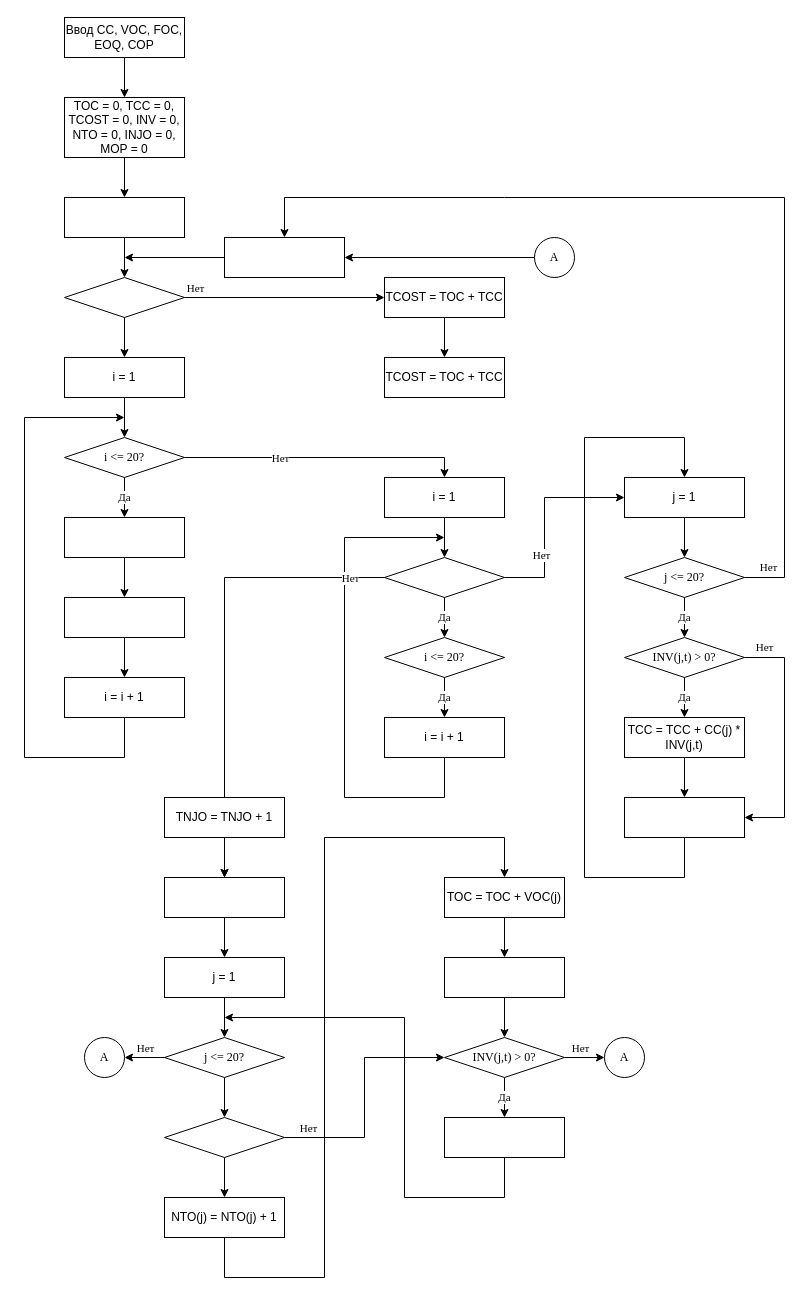
Image size: 810x1303. Some labels were removed from this diagram. The centre of each missing label's shape, as x and y in pixels:
"INV(i,t) = INV(i,t-1) - - D(i,t)" goes at [124,617].
"INV(i,t)>MOP(i)?" goes at [444,577].
"INV(j,t) = INV(j,t) + + EOQ(j)" goes at [504,977].
"INV(j,t)<=COP(j)?" goes at [224,1137].
"j = j + 1" goes at [684,817].
"t <= 90?" goes at [124,297].
"t = 1" goes at [124,217].
"t = t + 1" goes at [284,257].
"TCC = TCC + CC(j) * * INV(j,t)" goes at [504,1137].
"TOC = TOC + FOC" goes at [224,897].
"Генерирование D(i,t)" goes at [124,537].
